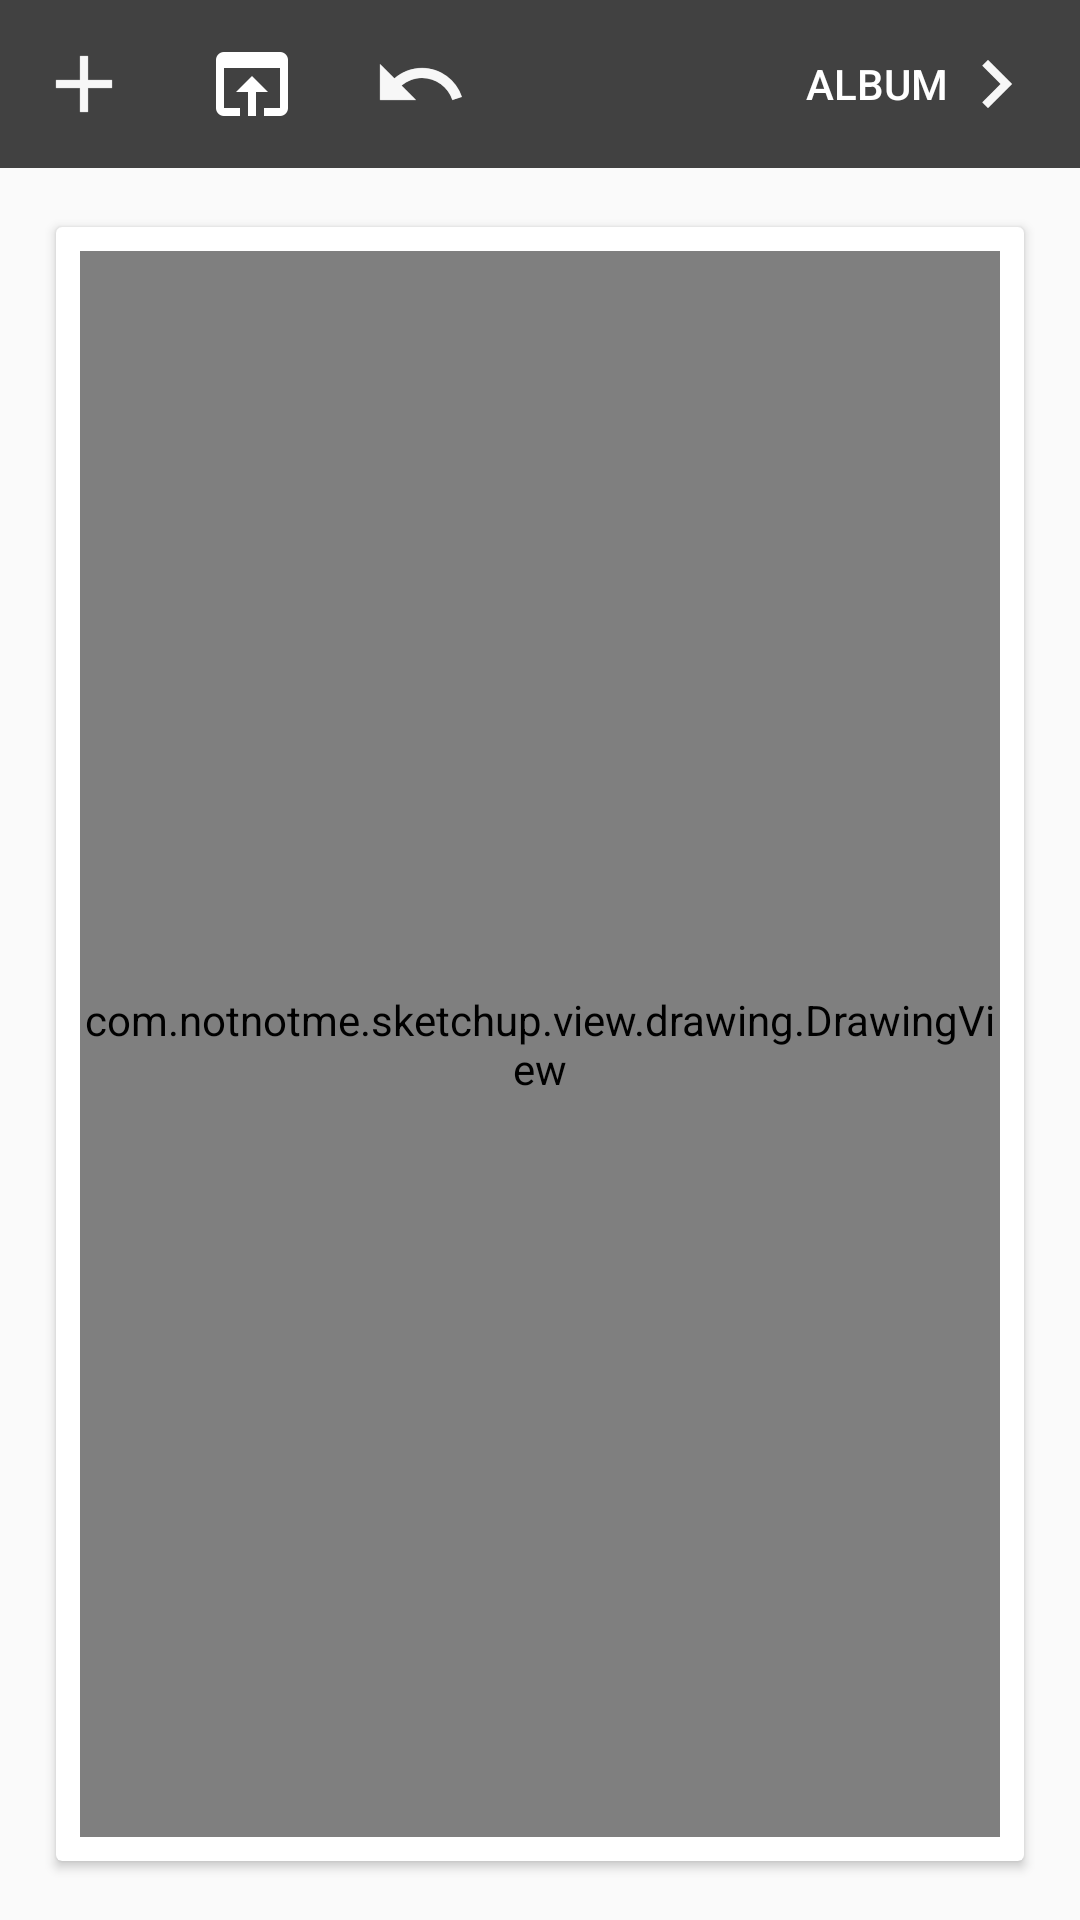

Where icons sit on this 1080px x 1920px app screen, as (x1, y1, x2, y2):
plus: (56, 56, 112, 112)
undo: (380, 64, 462, 100)
